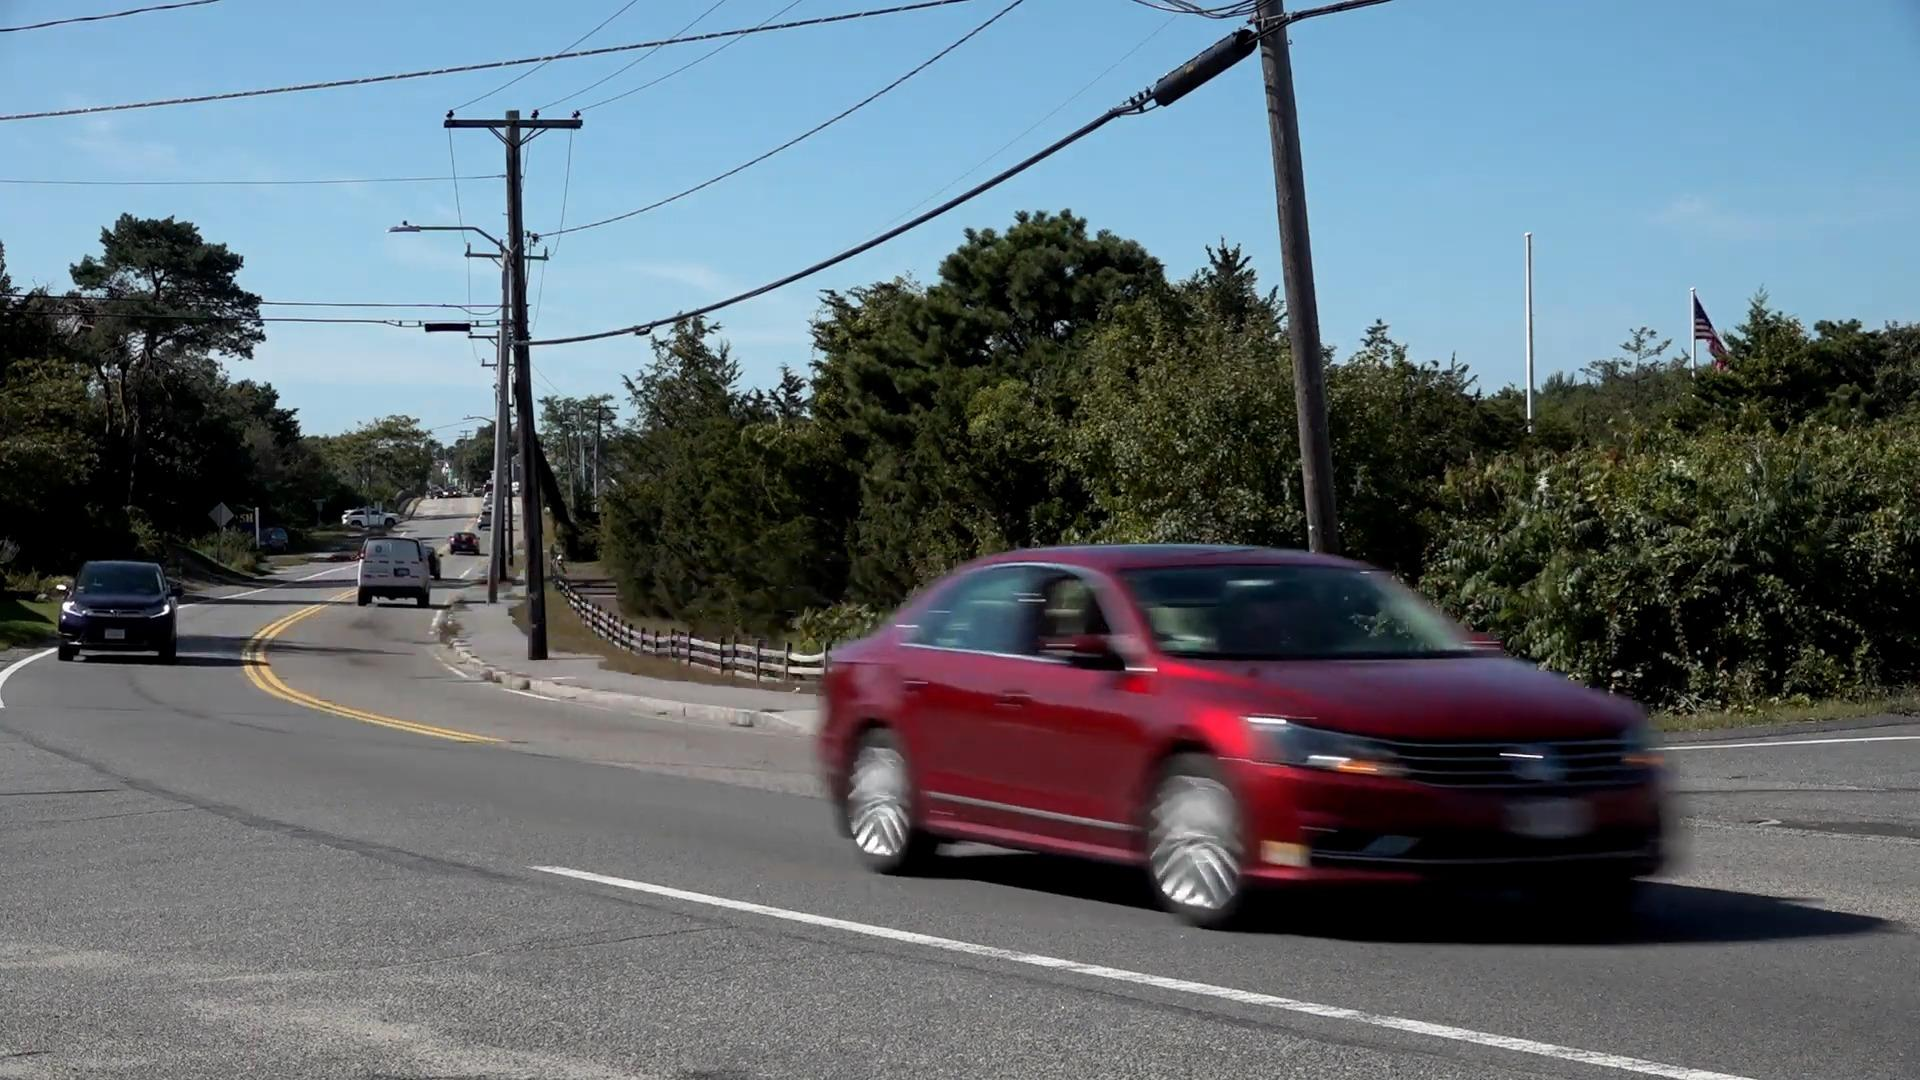minivan: (357, 538, 429, 611)
sedans: (818, 538, 1675, 936)
suv: (61, 553, 179, 662)
